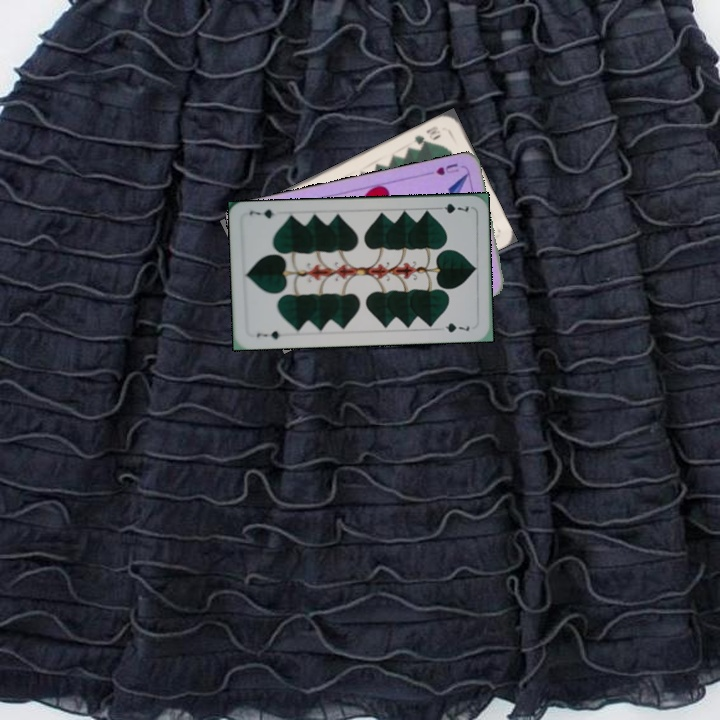G10: (409, 122, 443, 148)
G7: (432, 199, 471, 216), (253, 327, 283, 341)
HU: (424, 159, 461, 178)
